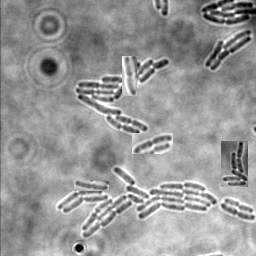Dividing: (132, 133, 173, 154), (219, 204, 255, 222), (122, 56, 137, 96), (223, 199, 253, 215), (74, 180, 109, 191)
Microcolony: (57, 167, 216, 238), (75, 59, 169, 136), (204, 30, 251, 72), (200, 1, 255, 26), (221, 141, 248, 187)
